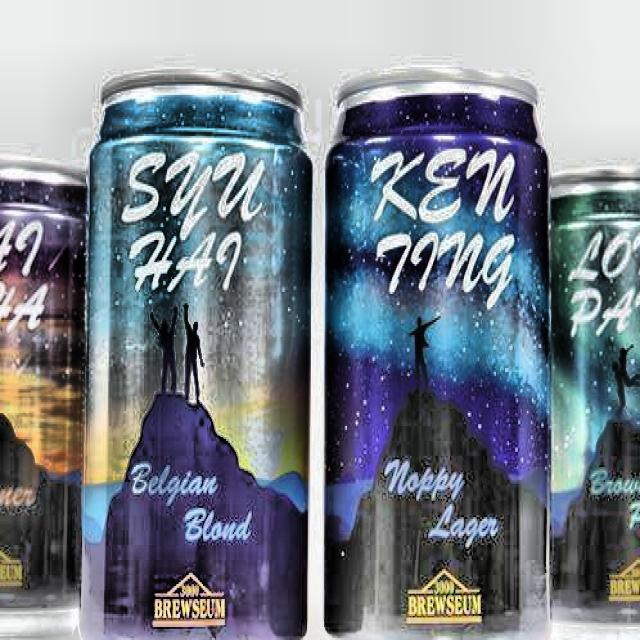metal: (318, 56, 560, 640), (75, 54, 316, 640), (545, 149, 640, 640), (0, 139, 83, 640)
